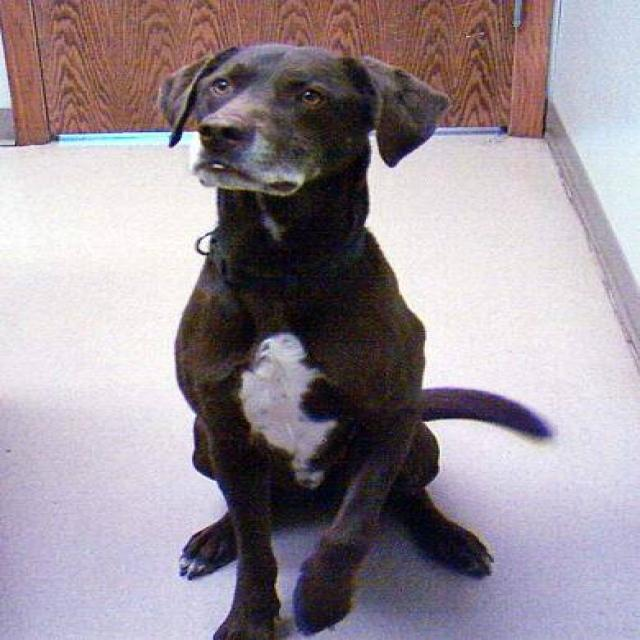Dog: (133, 18, 469, 222)
